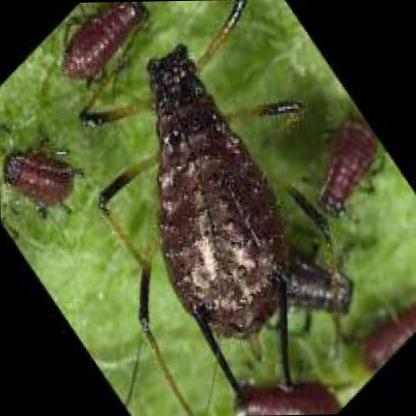uroleucon compositae: (146, 44, 285, 365)
